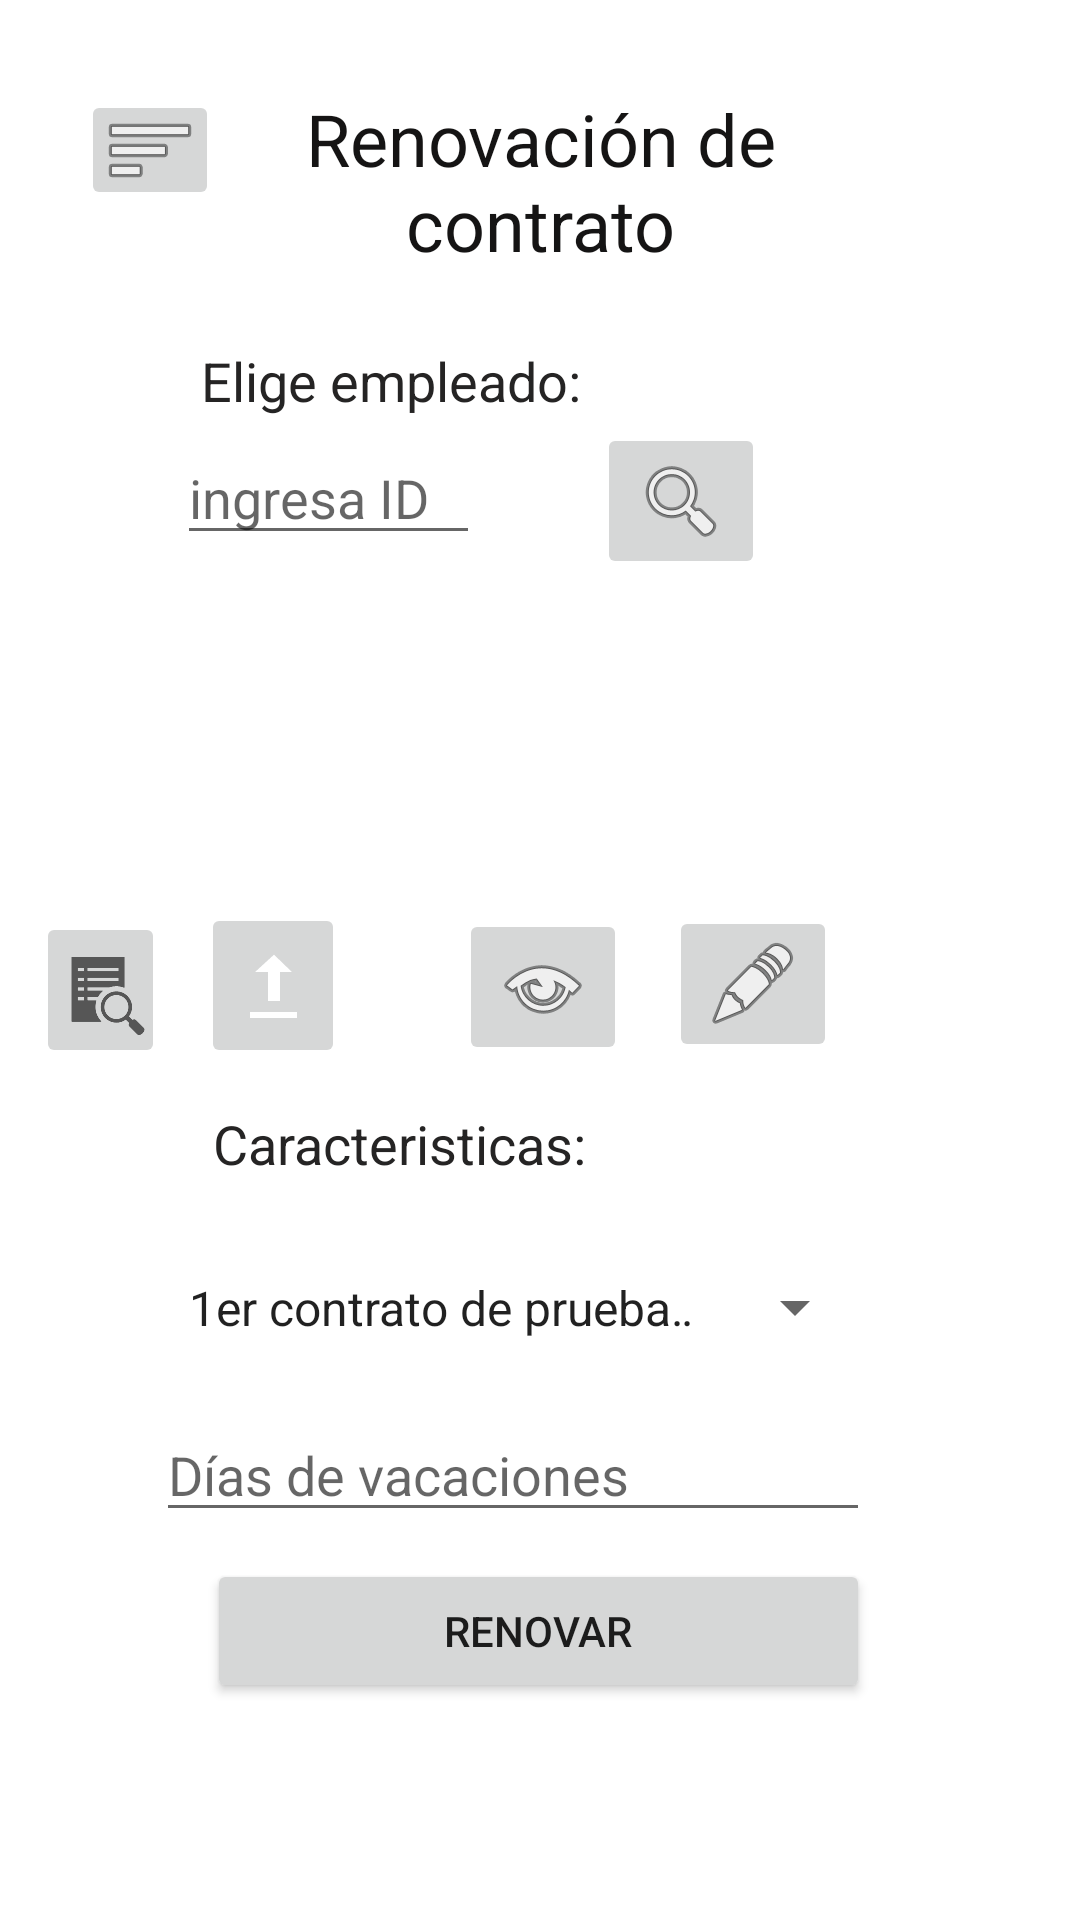

Named icons in this screenshot (1080 x 1920) and their centers, [x,y]:
edit: [753,984]
search: [681,501]
sort by size: [150,150]
upload: [273,985]
view: [543,987]
